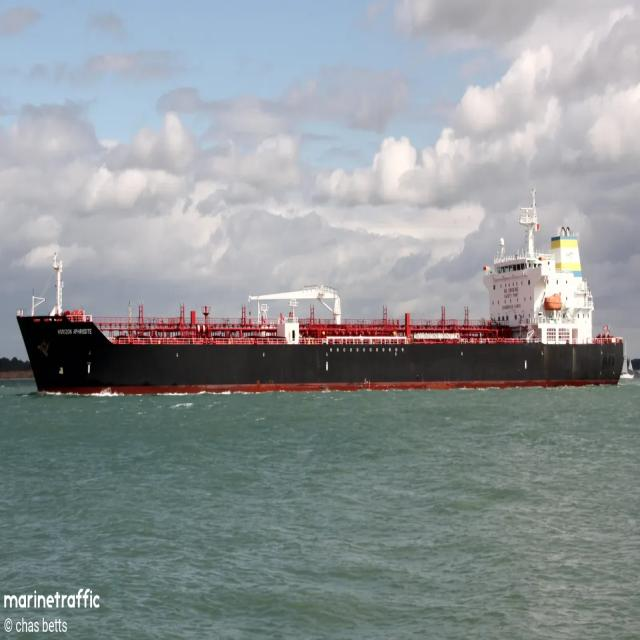Tanker: (17, 189, 632, 393)
